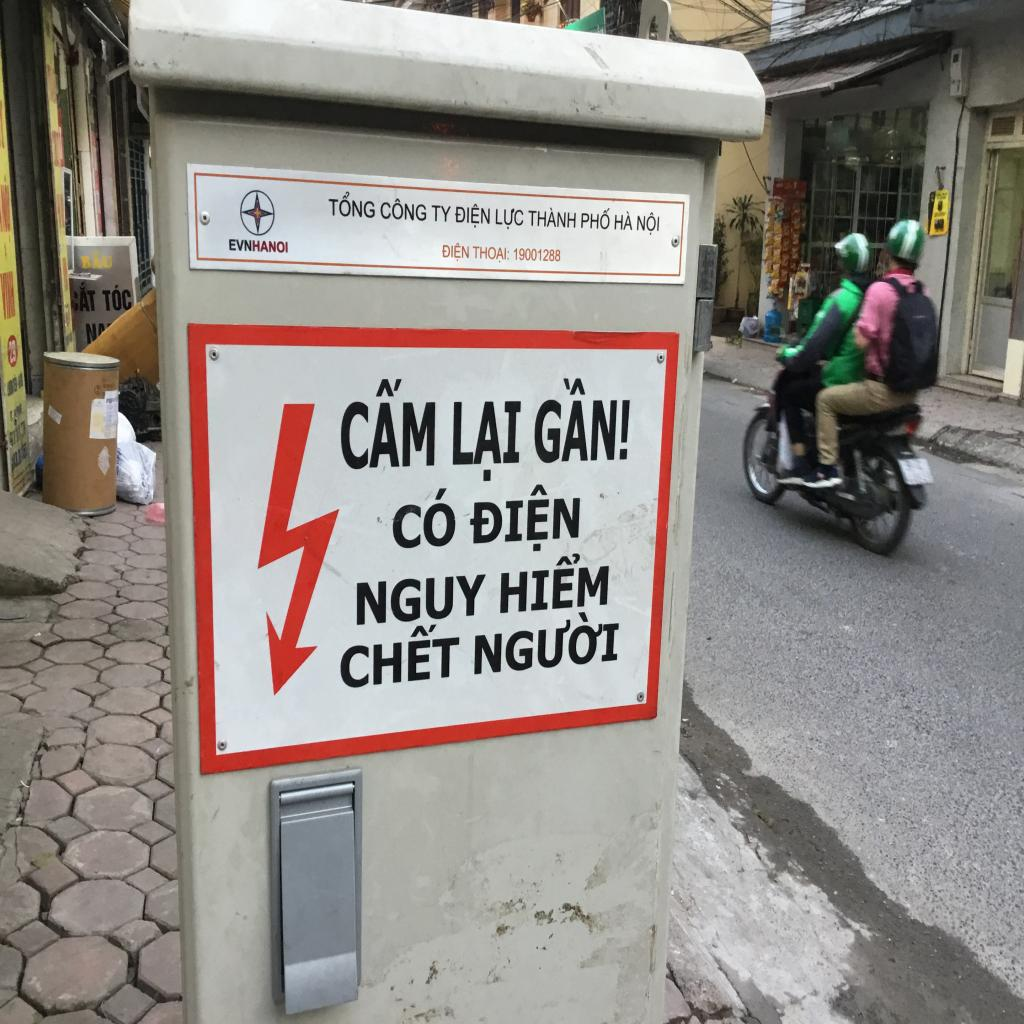text: (470, 606, 620, 678), (333, 373, 438, 471), (534, 372, 633, 466), (336, 621, 460, 693), (465, 482, 583, 555), (497, 547, 613, 615), (354, 572, 484, 626), (450, 398, 522, 483), (386, 486, 456, 553), (325, 189, 376, 218), (378, 198, 430, 224), (526, 205, 576, 228), (454, 202, 492, 230), (228, 238, 290, 254), (514, 246, 562, 266), (101, 283, 133, 313), (494, 205, 524, 234), (472, 243, 512, 264), (72, 280, 98, 312), (81, 246, 114, 271), (579, 205, 611, 228), (634, 209, 660, 236), (440, 242, 470, 264), (612, 210, 634, 233), (431, 203, 453, 225), (8, 339, 17, 365)
